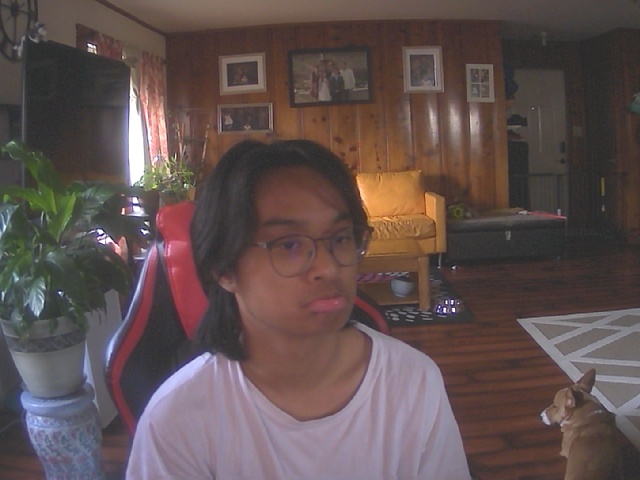sad: (209, 146, 374, 342)
